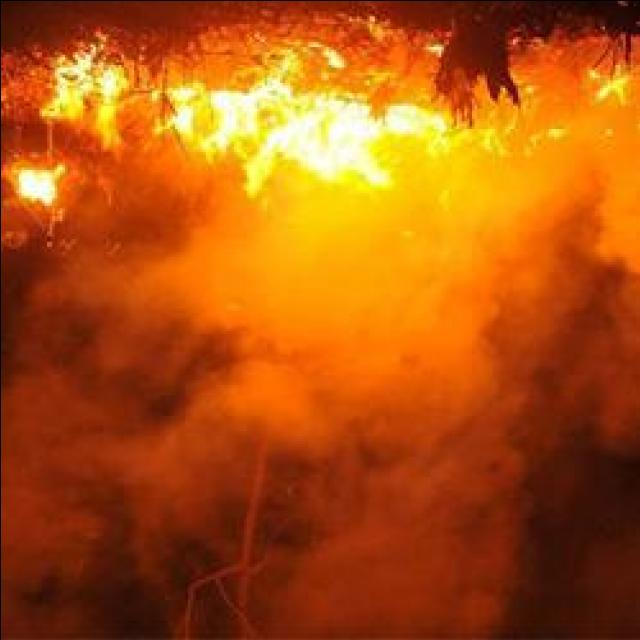fire: (201, 96, 424, 198), (49, 39, 134, 122), (13, 158, 68, 208)
smoke: (282, 450, 514, 633), (386, 134, 638, 244), (398, 246, 512, 426), (263, 190, 382, 324), (137, 202, 259, 324)
